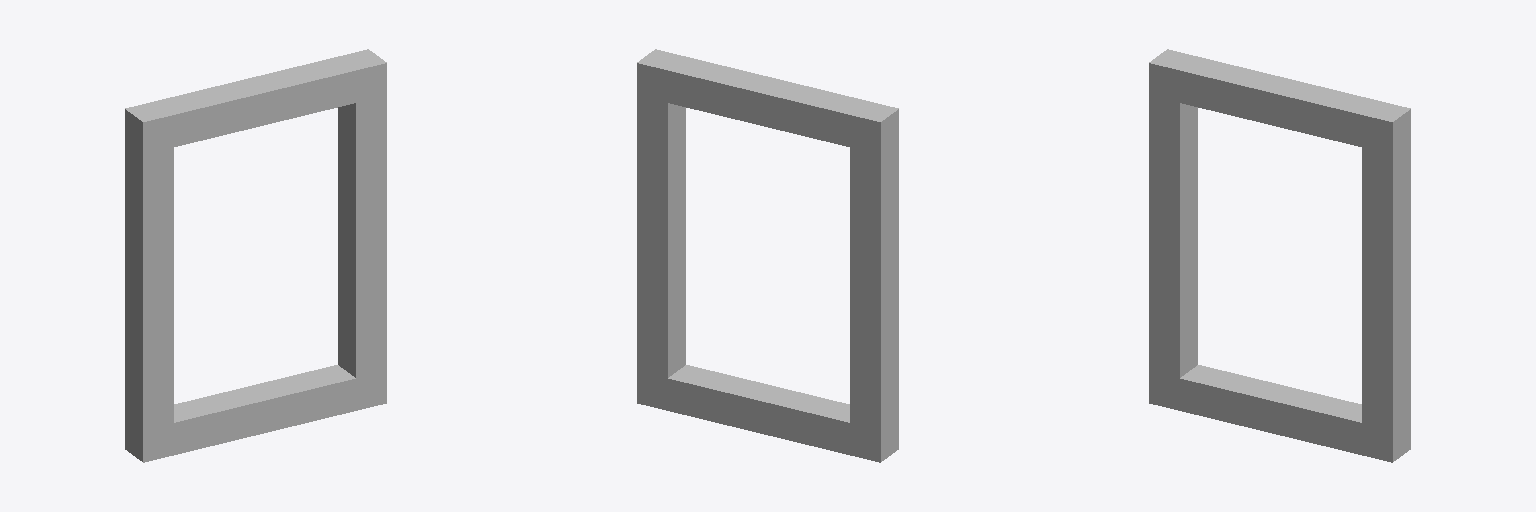
File: window-brown-large.obj
The picture shows the model from 3 angles: view 1: azimuth 30°, elevation 25°; view 2: azimuth 150°, elevation 25°; view 3: azimuth 330°, elevation 25°; orthographic projection.
Visible parts, largest first — view 1: window-brown-large; view 2: window-brown-large; view 3: window-brown-large.
Part boxes in pixels (x1,y1,x2,y2): window-brown-large: (125,49,386,462); window-brown-large: (637,49,898,462); window-brown-large: (1149,49,1410,462).
Size of the model in its own units: 0.375 by 0.5 by 0.05.